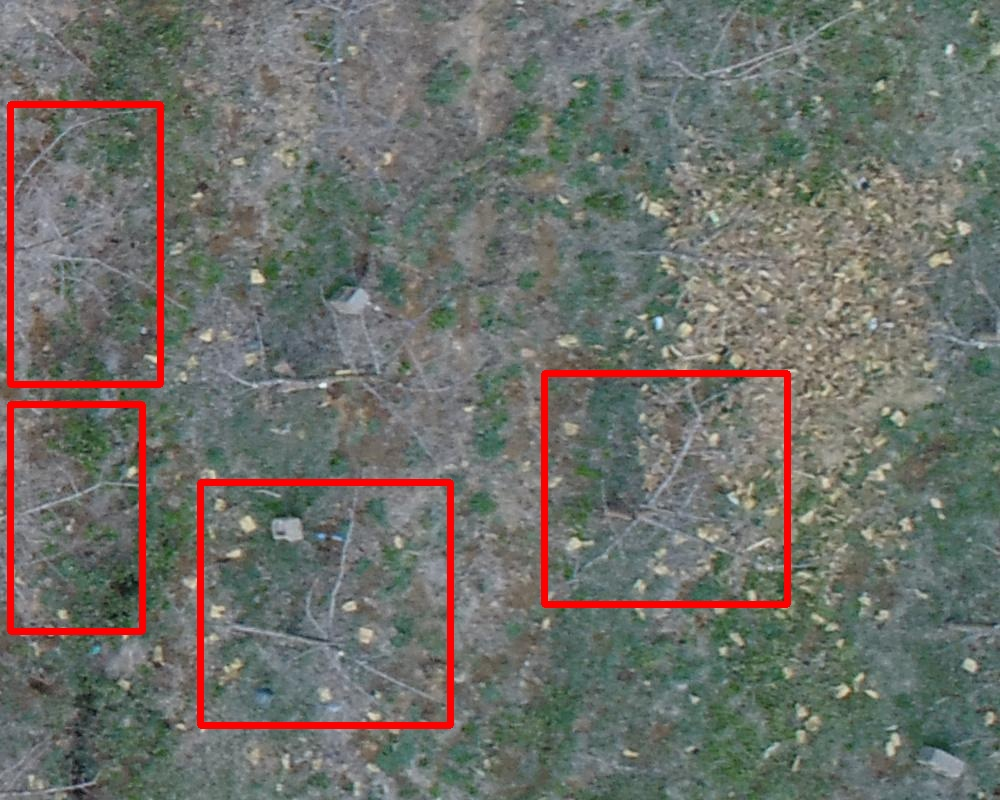apple: (200, 482, 450, 725), (544, 373, 787, 604), (10, 104, 160, 384), (10, 404, 142, 631)
